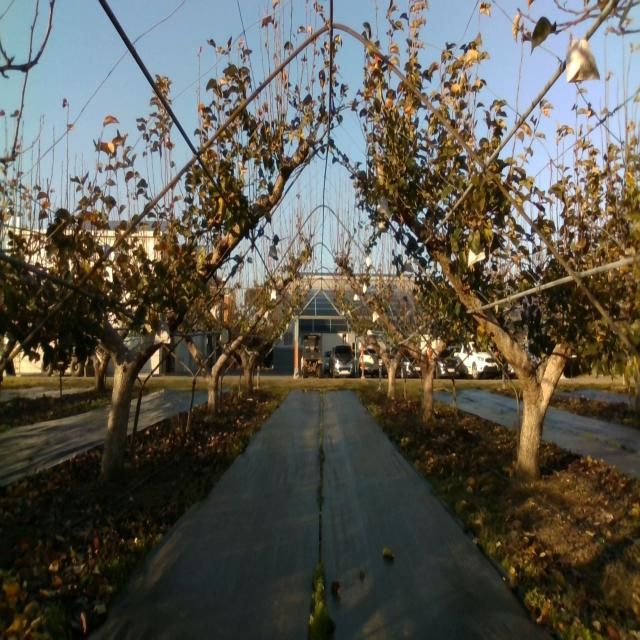pearbags: (565, 31, 600, 82), (154, 320, 172, 347), (377, 194, 391, 220)
